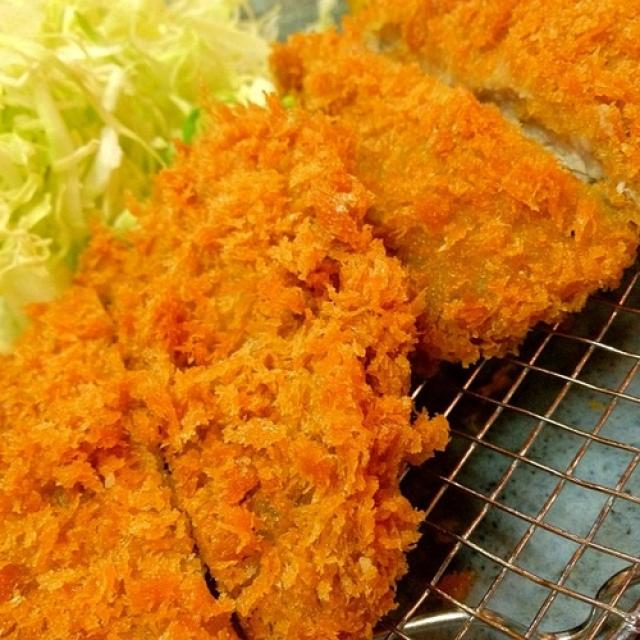牛肉菜式: (5, 8, 631, 626)
